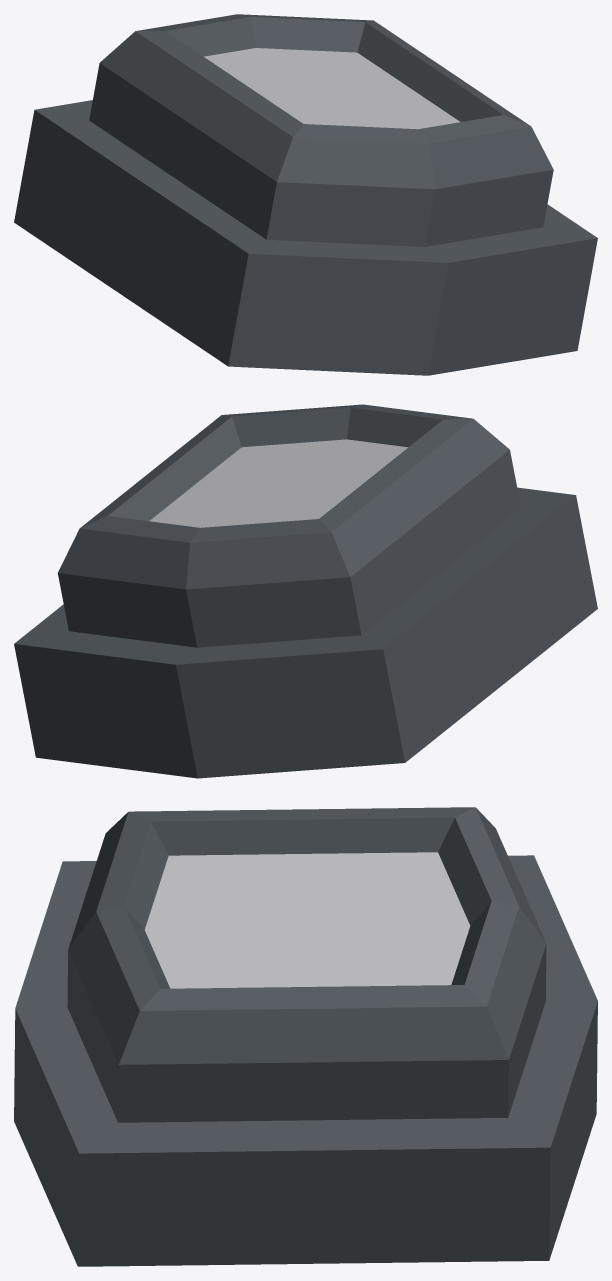
The model's file is Mothership_02_Detail_4.fbx.
The picture shows the model from 3 angles, top to bottom: view 1: azimuth 30°, elevation 25°; view 2: azimuth 150°, elevation 25°; view 3: azimuth 270°, elevation 25°; orthographic projection. The views are drawn at different scales.
Visible parts, largest first — view 1: Mothership_02_Detail_4; view 2: Mothership_02_Detail_4; view 3: Mothership_02_Detail_4.
Part boxes in pixels (x1,y1,x2,y2): Mothership_02_Detail_4: (14, 14, 597, 375); Mothership_02_Detail_4: (14, 404, 597, 778); Mothership_02_Detail_4: (14, 807, 597, 1266).
Bounding box in the file's own units: 209 × 135 × 233.
Materials: 1 (1 with a texture image).
